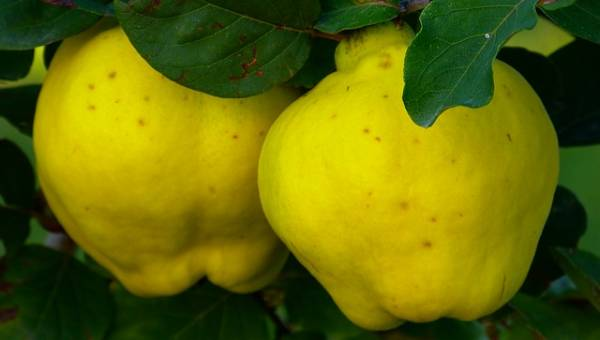Quince: (253, 20, 562, 329)
